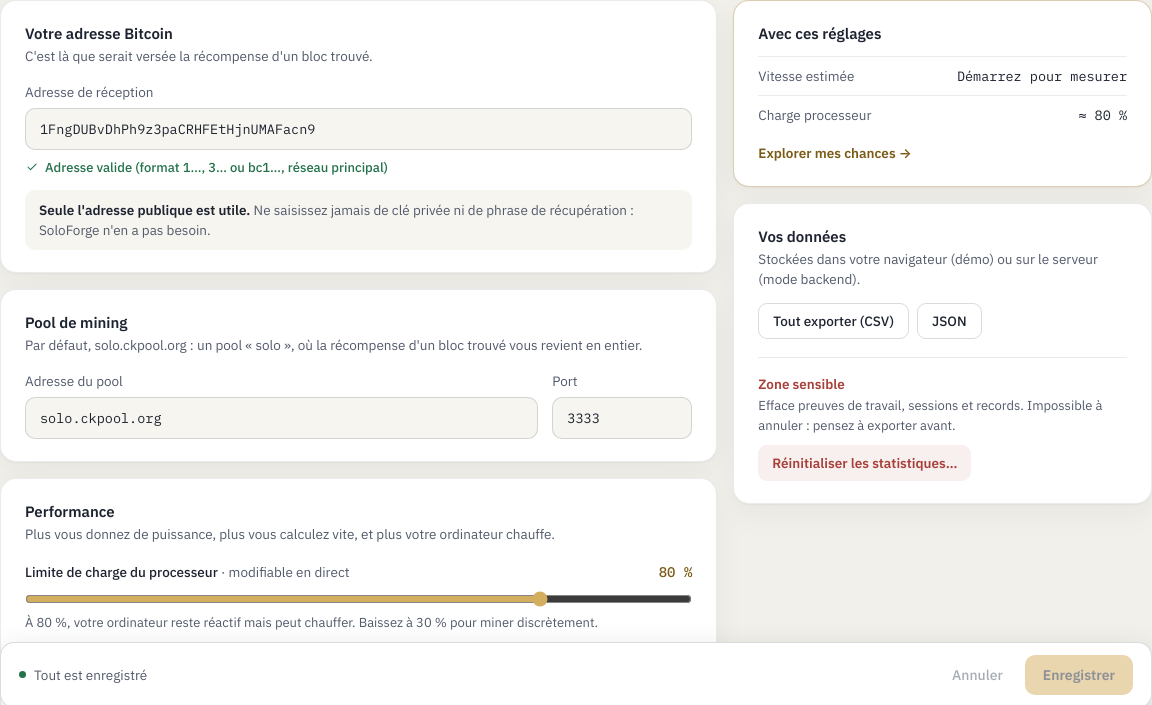
Test case: ConfigScreen › tracks unsaved edits and saves the whole configuration
Set the slider labelled "Limite de charge du processeur · modifiable en direct" to "60" at (395, 599), box [25,591,692,607]
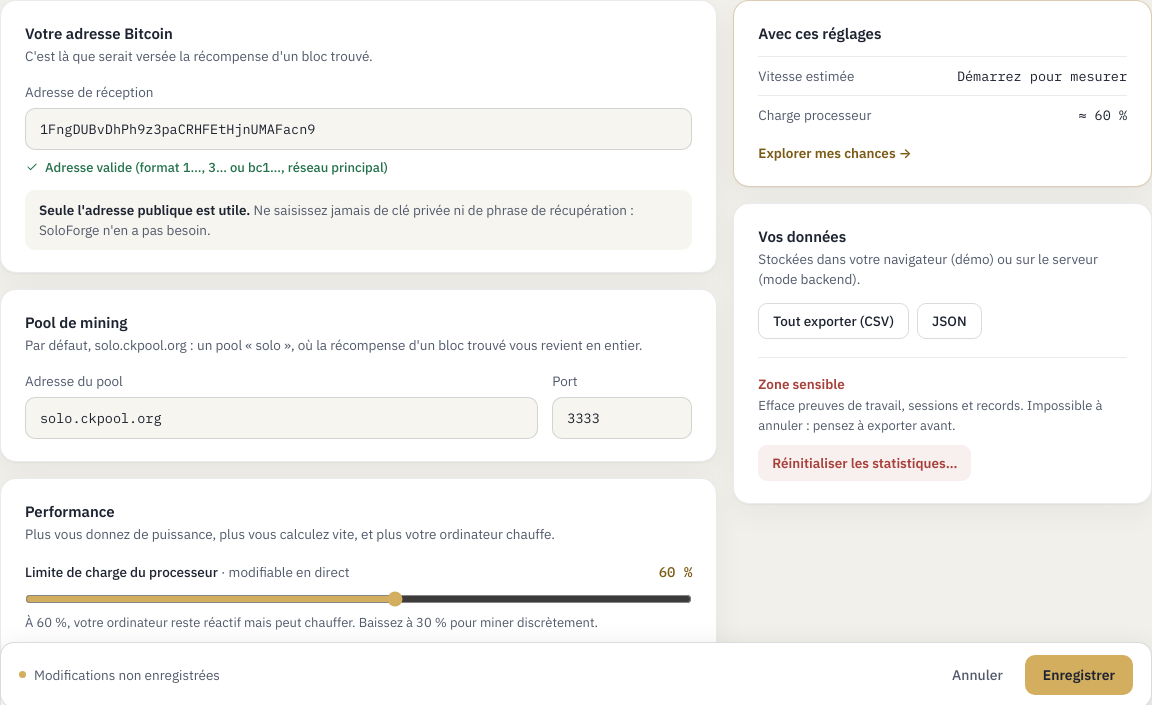
Expected: the text "Modifications non enregistrées" is shown, [19,665,220,685]
Click the button "Enregistrer" at (1079, 675), box [1025,655,1133,695]
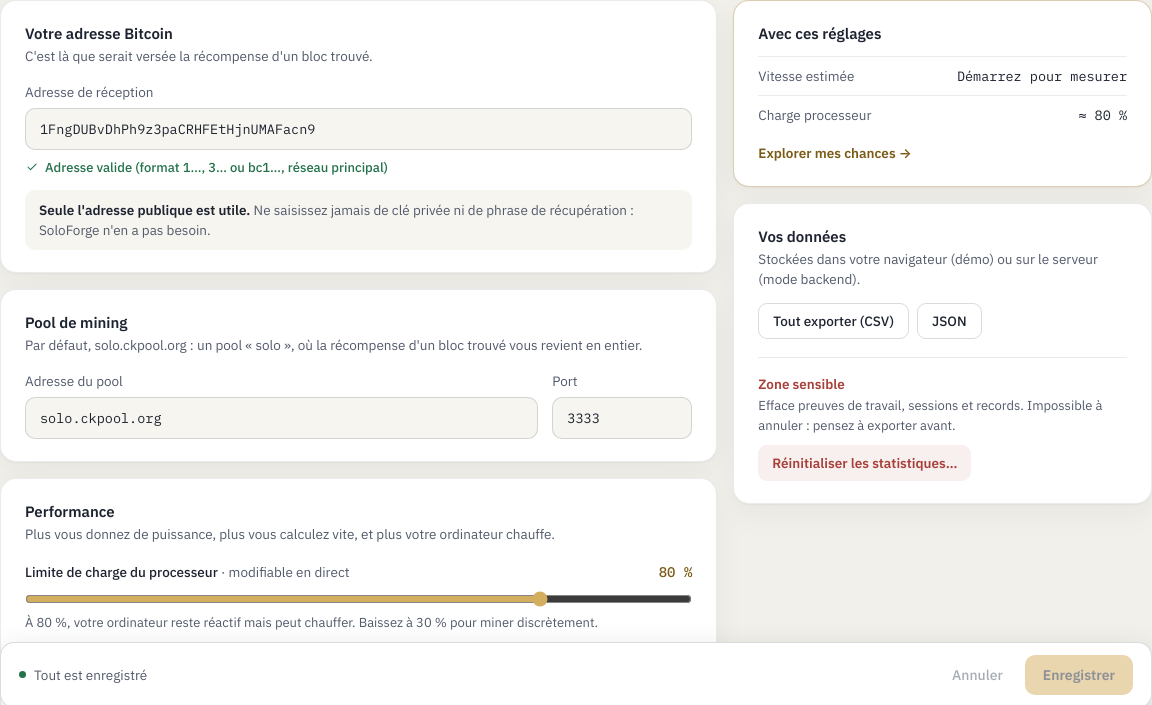
Expected: the text "Tout est enregistré" is shown, [19,665,147,685]
